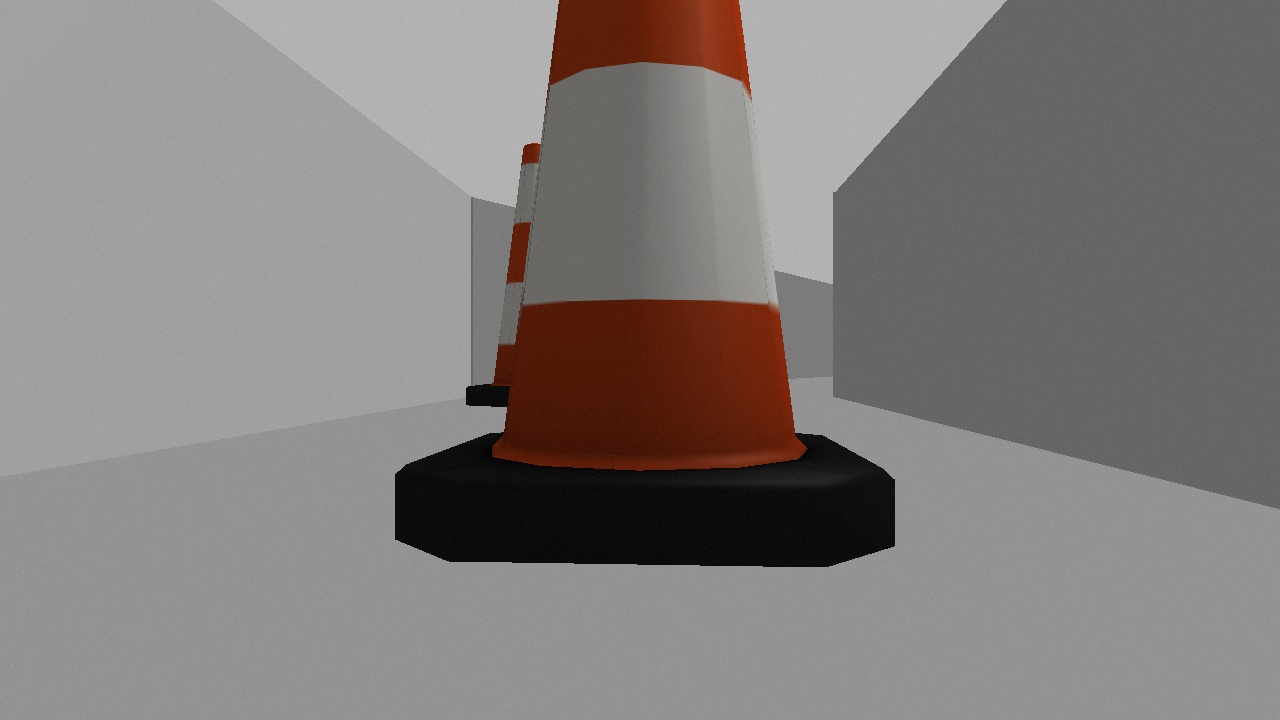barricade: (365, 1, 907, 589), (451, 132, 589, 411)
